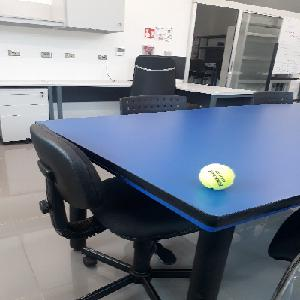Ball: (199, 164, 234, 189)
